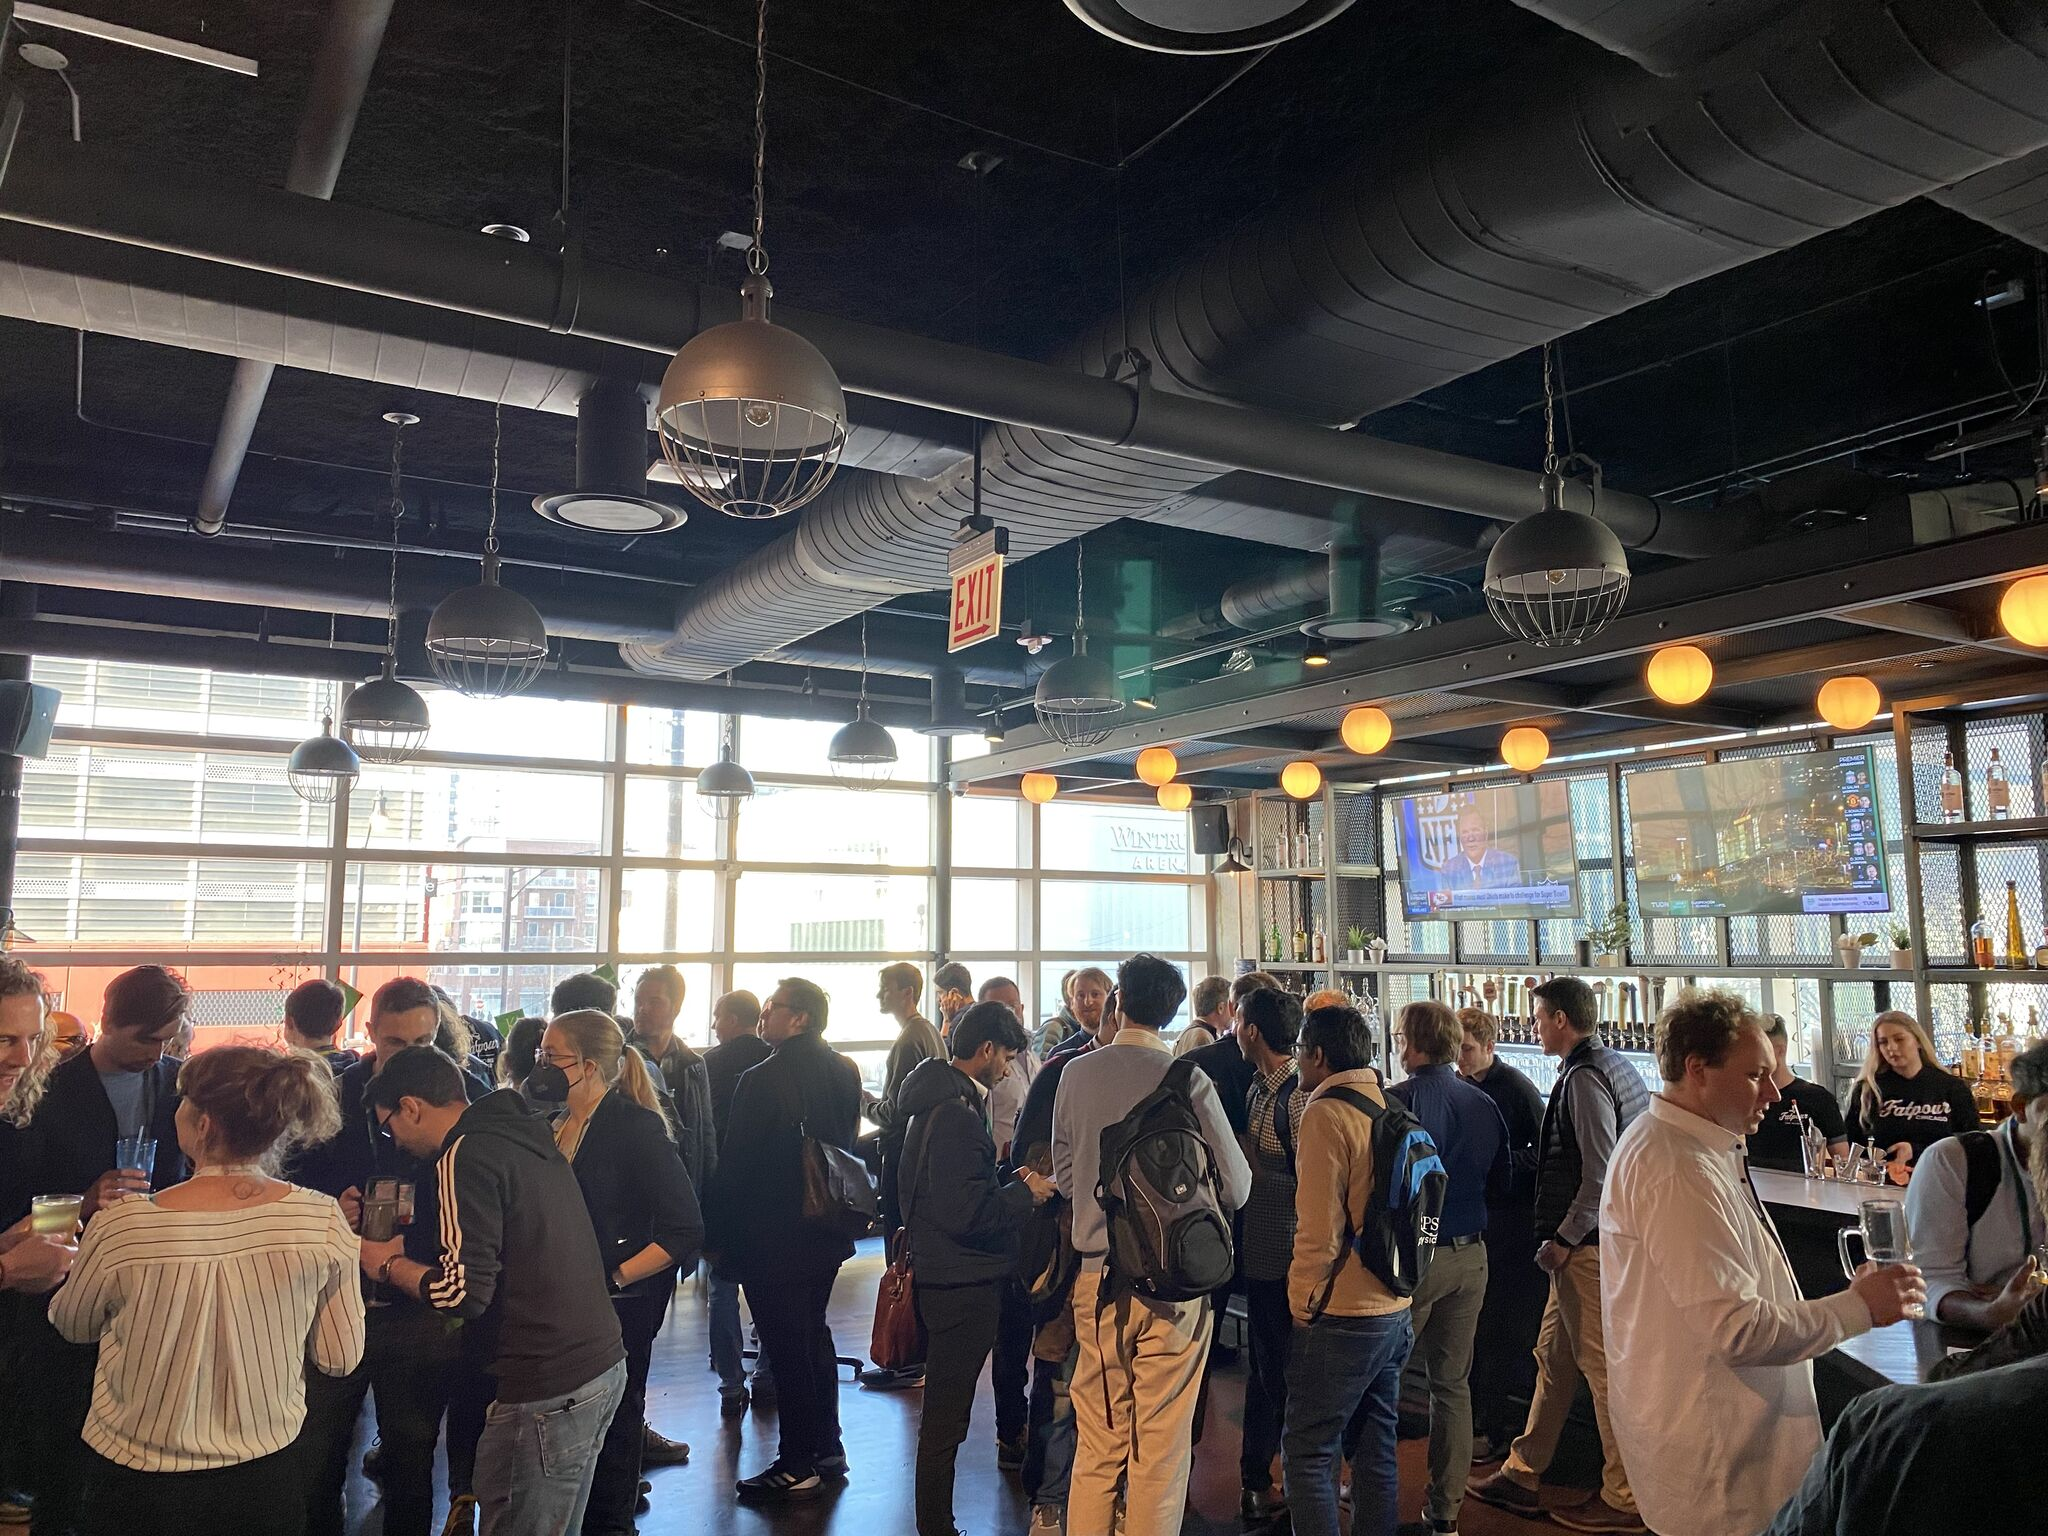without_mask: (1719, 1051, 1785, 1140), (1870, 1029, 1919, 1066), (1079, 987, 1110, 1027)
